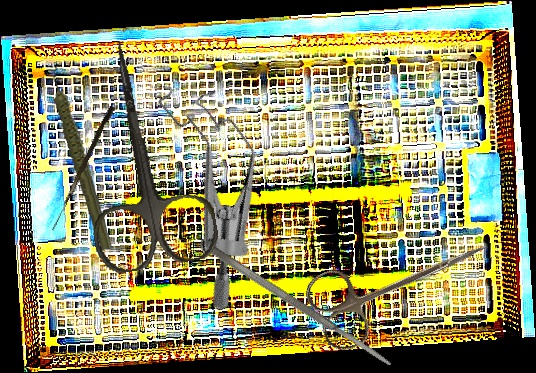Handpiece: (49, 63, 115, 252)
Hook Surgical: (51, 104, 116, 234)
Iris Scissors: (61, 30, 222, 277), (300, 205, 502, 358)
Spatula Surgical: (207, 243, 394, 370)
Speculum: (92, 61, 322, 314)
